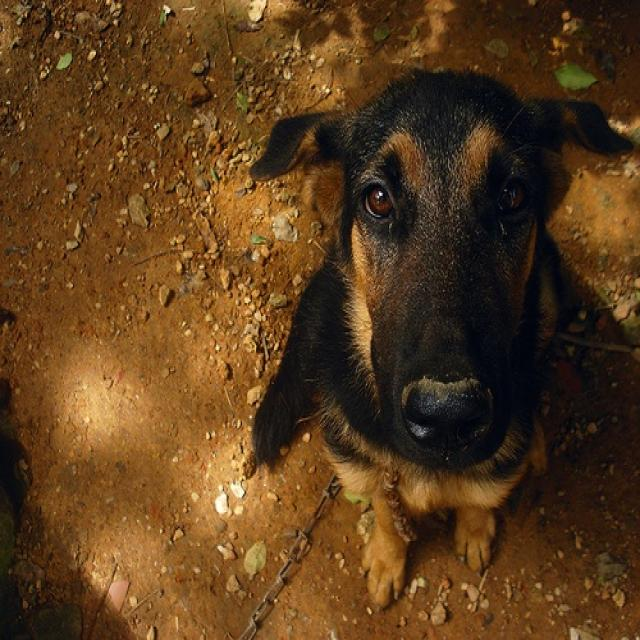dog: (252, 67, 627, 601)
